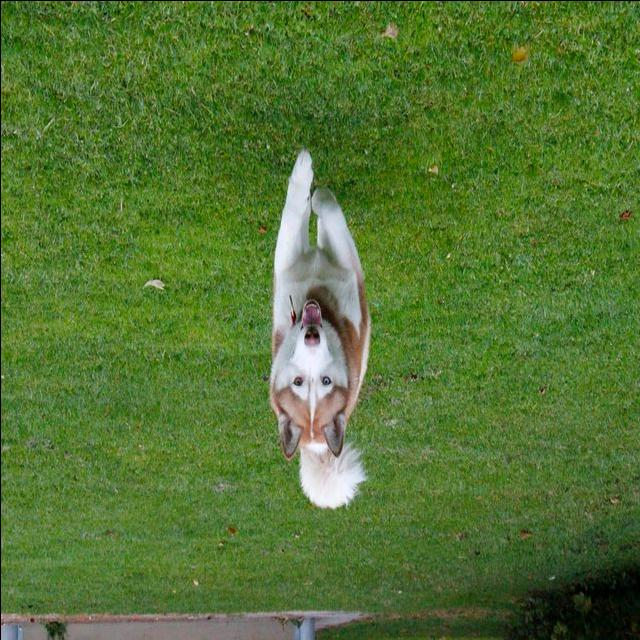husky: (267, 148, 372, 510)
